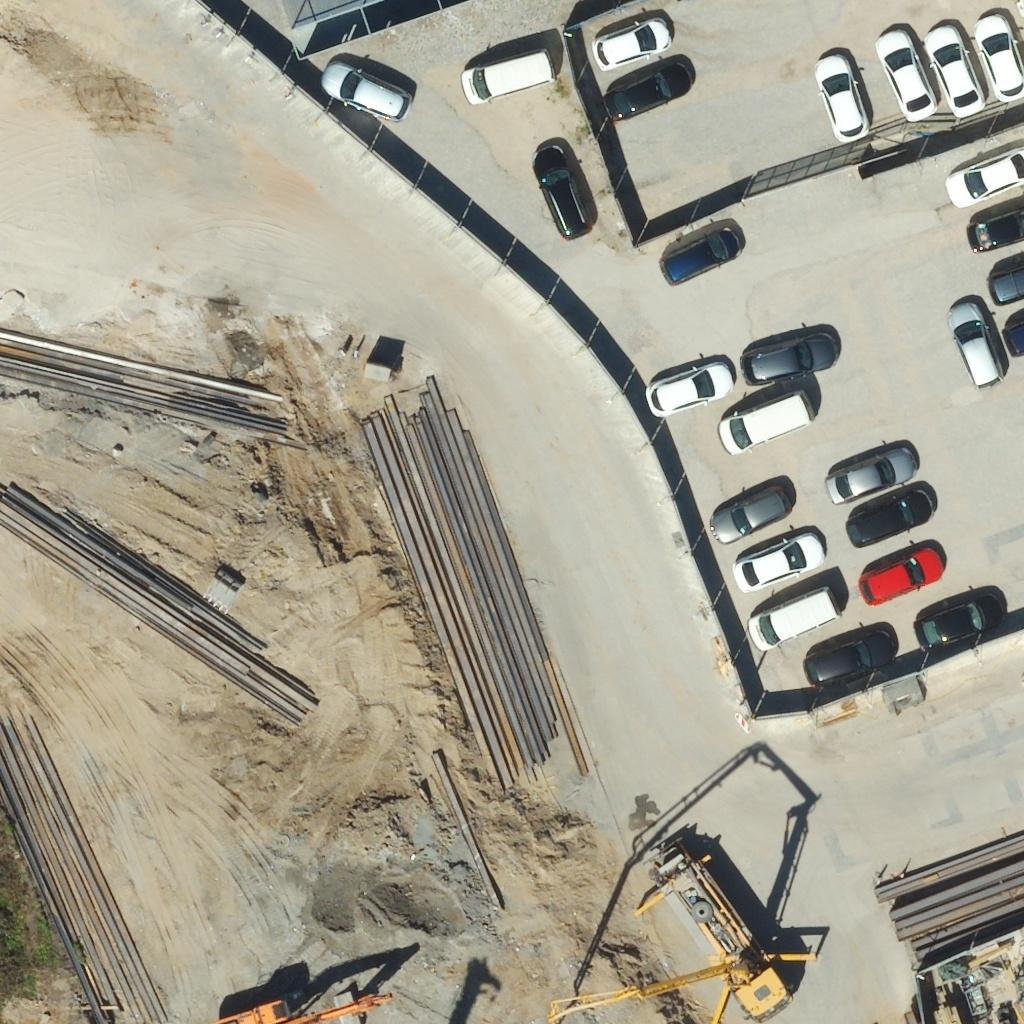betoniarka: (549, 838, 816, 1023)
koparka: (213, 994, 391, 1023)
samochod_osobowy: (720, 392, 813, 454), (749, 587, 839, 650), (533, 143, 592, 239), (734, 530, 825, 592), (321, 57, 411, 119), (741, 327, 839, 383), (876, 29, 936, 120), (924, 25, 983, 117), (826, 444, 918, 503), (804, 627, 896, 686), (847, 487, 934, 547), (605, 62, 692, 120), (646, 359, 733, 417), (859, 545, 943, 605), (462, 50, 554, 104), (949, 300, 1004, 387), (661, 227, 742, 285), (711, 485, 792, 543), (915, 596, 1003, 649), (816, 55, 868, 140), (947, 149, 1023, 207), (975, 14, 1023, 101), (593, 18, 671, 70), (968, 206, 1023, 251), (989, 262, 1023, 304), (1003, 311, 1023, 356)
